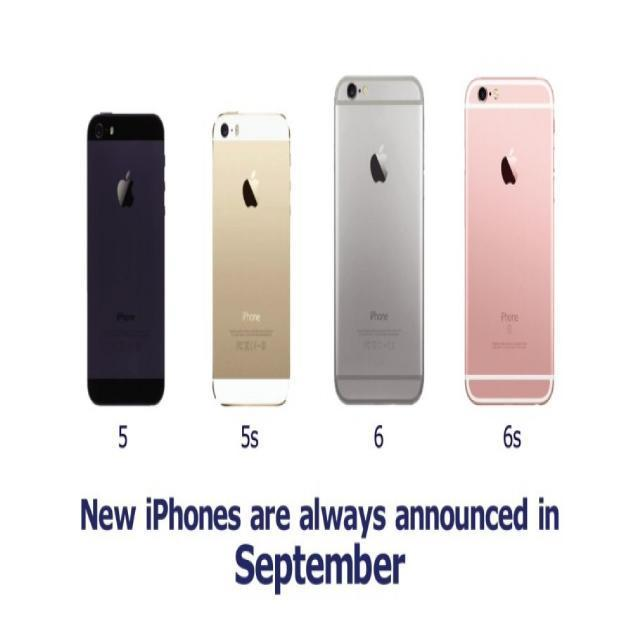phone: (334, 75, 424, 405), (466, 75, 554, 406), (85, 109, 165, 405), (214, 110, 292, 407)
